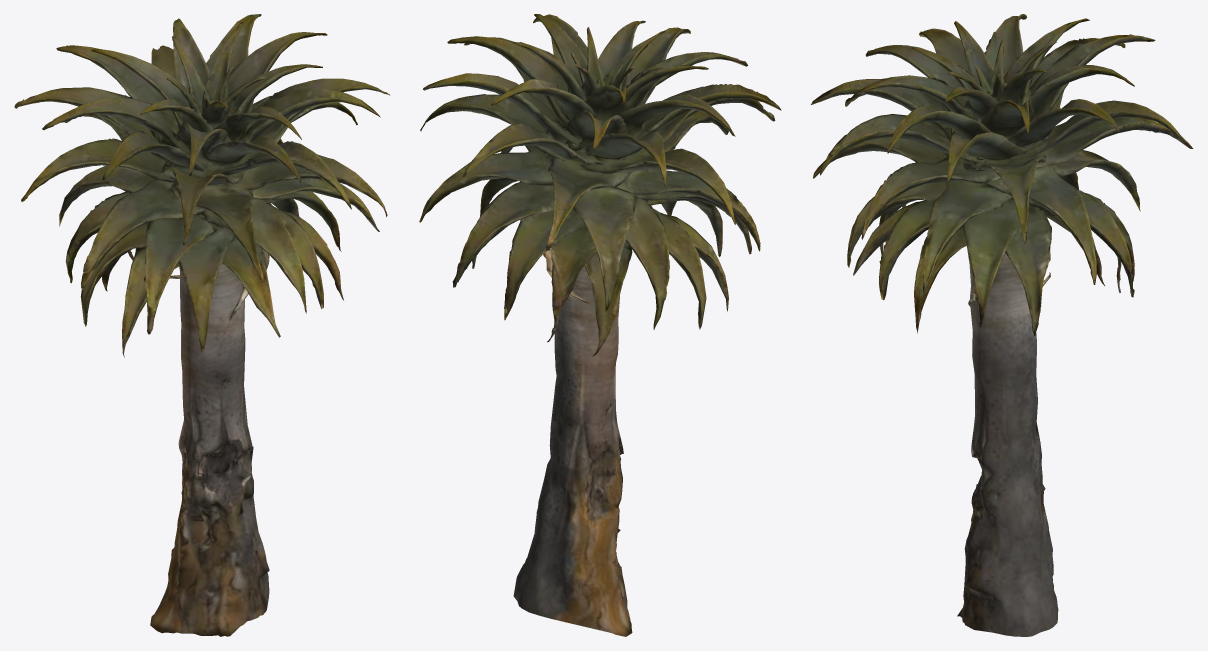
The model's file is quiver_tree_02.glb.
3 renders of one model, left to right at view 1: azimuth 30°, elevation 25°; view 2: azimuth 150°, elevation 25°; view 3: azimuth 270°, elevation 25°, orthographic.
Visible parts, largest first — view 1: quiver_tree_02; view 2: quiver_tree_02; view 3: quiver_tree_02.
Part boxes in pixels (x1,y1,x2,y2): quiver_tree_02: [14, 14, 389, 636]; quiver_tree_02: [419, 14, 781, 636]; quiver_tree_02: [811, 14, 1193, 636].
Size of the model in its own units: 0.8716 by 1.47 by 0.8806.
1 material, 1 textured.
